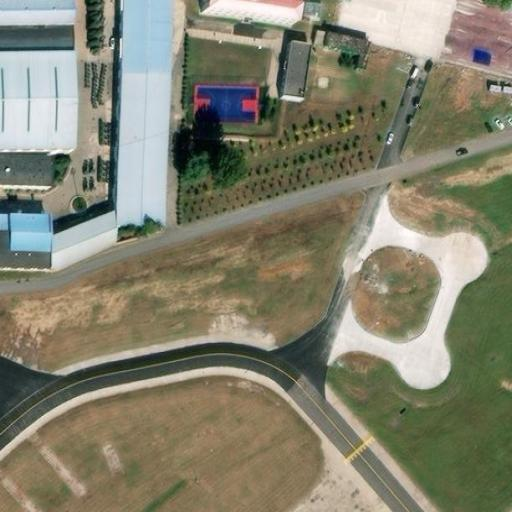building: (114, 0, 170, 228), (46, 213, 119, 272), (276, 41, 309, 100), (320, 36, 367, 67), (0, 166, 49, 189)
